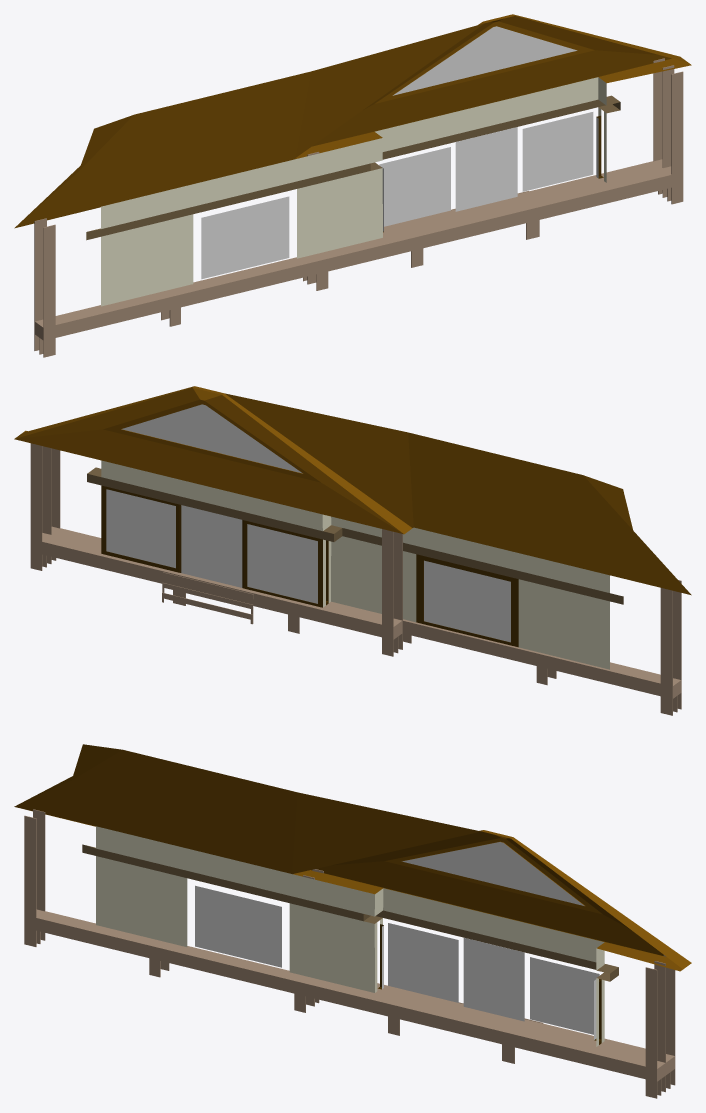
The model's file is House2D.fbx.
3 renders of one model, top to bottom at view 1: azimuth 30°, elevation 25°; view 2: azimuth 150°, elevation 25°; view 3: azimuth 330°, elevation 25°, orthographic.
Parts seen in each view (by area): view 1: pCube1, pCube2; view 2: pCube1, pCube2, pCube3; view 3: pCube1, pCube2.
Boxes of the visible parts, bbox=[...] form: pCube1: bbox=[14, 14, 691, 306]; pCube2: bbox=[34, 58, 683, 357]; pCube1: bbox=[14, 386, 691, 669]; pCube2: bbox=[30, 443, 681, 715]; pCube3: bbox=[162, 572, 253, 624]; pCube1: bbox=[14, 744, 691, 1046]; pCube2: bbox=[24, 809, 675, 1098].
Size of the model in its own units: 53.78 by 16.5 by 2.82.
